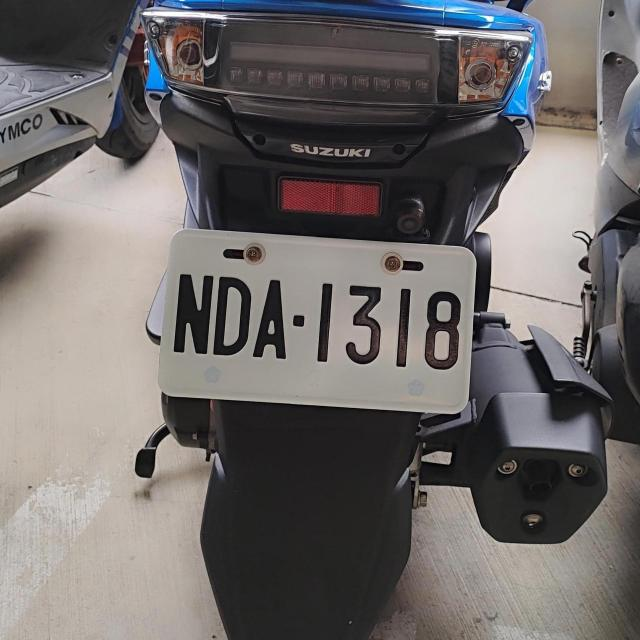W: (168, 232, 474, 406)
